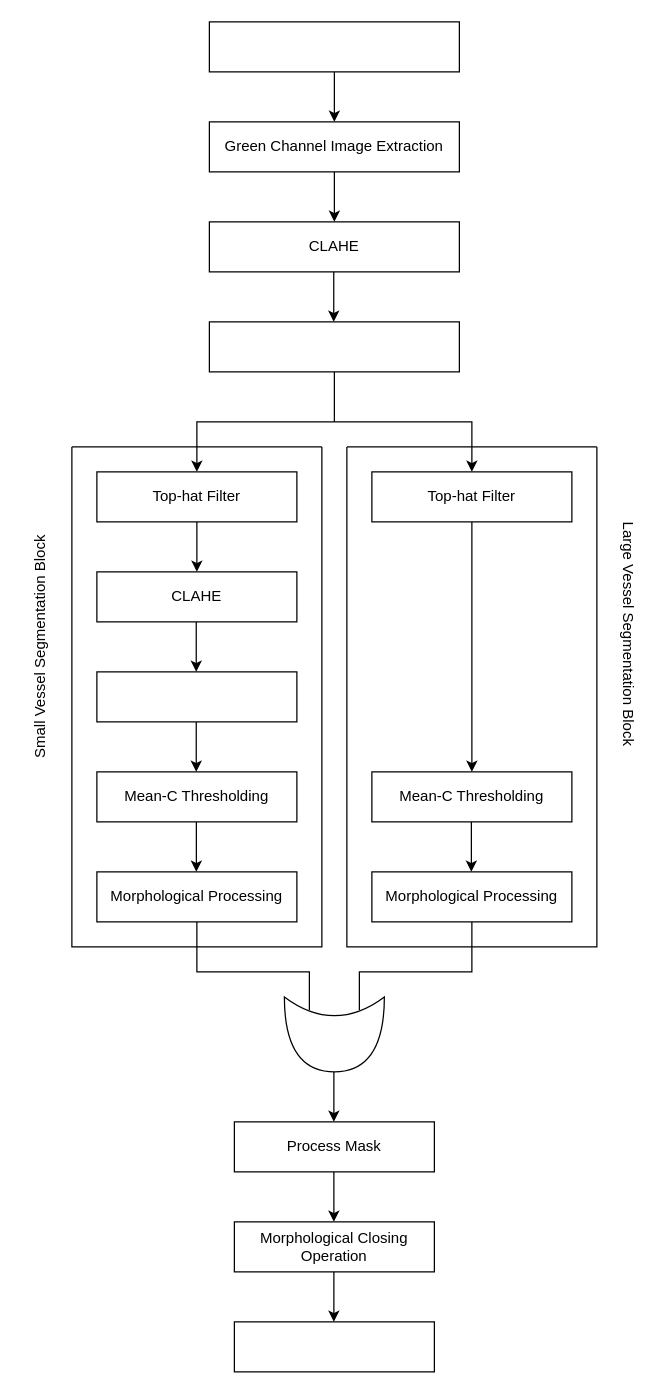
This 668x1394 diagram has some shape labels left out. Each missing label, with the box of its shape:
Bitwise OR: (283, 996, 384, 1072)
Frangi Filter: (96, 671, 297, 722)
Gaussian Filter: (208, 321, 459, 372)
Input Retina Image: (208, 21, 459, 72)
Output Image: (233, 1321, 434, 1372)
